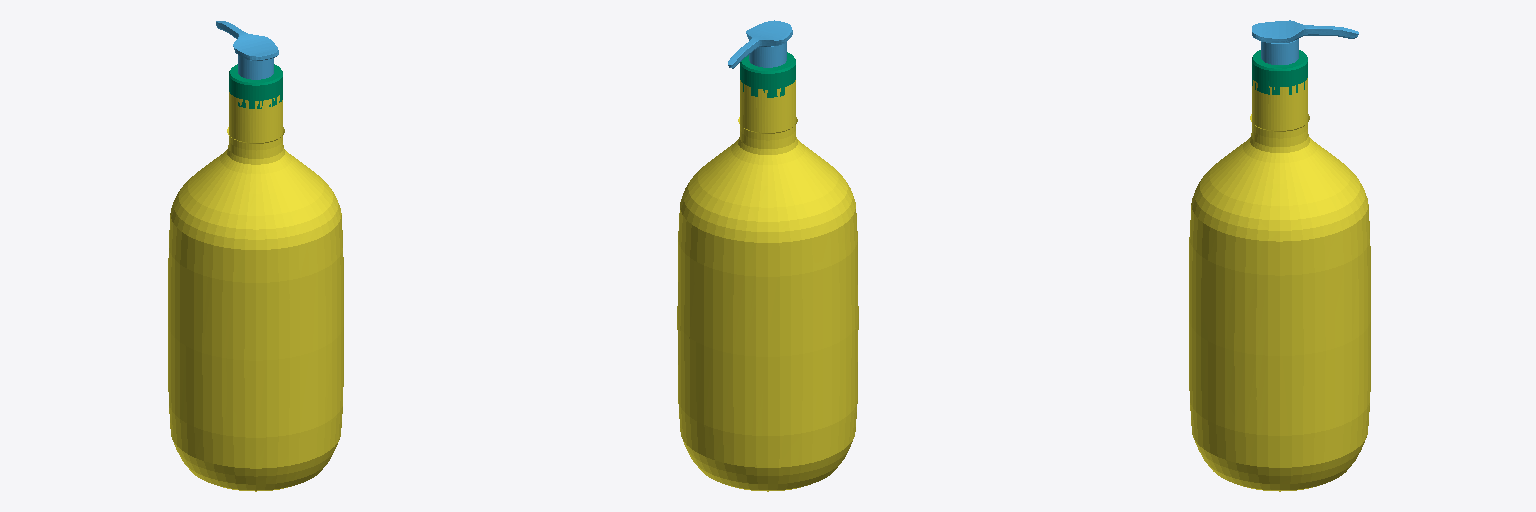
The robot description file, URDF, robot "partnet_a248bd23-afc1-495d-8576-762a182adb2e-2":
<?xml version="1.0" ?>
<robot name="partnet_a248bd23-afc1-495d-8576-762a182adb2e-2">
	<link name="base"/>
	<link name="link_0">
		<visual name="pressing_lid-1">
			<origin xyz="0.005842909581447499 0 0.005778784634363904"/>
			<geometry>
				<mesh filename="textured_objs/original-4.obj"/>
			</geometry>
		</visual>
		<visual name="pressing_lid-1">
			<origin xyz="0.005842909581447499 0 0.005778784634363904"/>
			<geometry>
				<mesh filename="textured_objs/original-8.obj"/>
			</geometry>
		</visual>
		<collision>
			<origin xyz="0.005842909581447499 0 0.005778784634363904"/>
			<geometry>
				<mesh filename="textured_objs/original-4.obj"/>
			</geometry>
		</collision>
		<collision>
			<origin xyz="0.005842909581447499 0 0.005778784634363904"/>
			<geometry>
				<mesh filename="textured_objs/original-8.obj"/>
			</geometry>
		</collision>
	</link>
	<joint name="joint_0" type="continuous">
		<origin xyz="0.0 0 0.0"/>
		<axis xyz="0 1 0"/>
		<child link="link_0"/>
		<parent link="link_0_helper"/>
	</joint>
	<link name="link_1">
		<visual name="head-3">
			<origin xyz="0.005779799016721349 -7.595691941485868e-07 0.005646530308564256"/>
			<geometry>
				<mesh filename="textured_objs/original-6.obj"/>
			</geometry>
		</visual>
		<visual name="head-3">
			<origin xyz="0.005779799016721349 -7.595691941485868e-07 0.005646530308564256"/>
			<geometry>
				<mesh filename="textured_objs/original-3.obj"/>
			</geometry>
		</visual>
		<collision>
			<origin xyz="0.005779799016721349 -7.595691941485868e-07 0.005646530308564256"/>
			<geometry>
				<mesh filename="textured_objs/original-6.obj"/>
			</geometry>
		</collision>
		<collision>
			<origin xyz="0.005779799016721349 -7.595691941485868e-07 0.005646530308564256"/>
			<geometry>
				<mesh filename="textured_objs/original-3.obj"/>
			</geometry>
		</collision>
	</link>
	<joint name="joint_1" type="continuous">
		<origin xyz="0.0 0.0 0.0"/>
		<axis xyz="0.00019159899488915299 0.9999999797475426 -6.160145748555619e-05"/>
		<child link="link_1"/>
		<parent link="link_1_helper"/>
	</joint>
	<link name="link_2">
		<visual name="base_body-4">
			<origin xyz="0 0 0"/>
			<geometry>
				<mesh filename="textured_objs/original-16.obj"/>
			</geometry>
		</visual>
		<visual name="base_body-4">
			<origin xyz="0 0 0"/>
			<geometry>
				<mesh filename="textured_objs/original-13.obj"/>
			</geometry>
		</visual>
		<visual name="base_body-4">
			<origin xyz="0 0 0"/>
			<geometry>
				<mesh filename="textured_objs/original-15.obj"/>
			</geometry>
		</visual>
		<visual name="base_body-4">
			<origin xyz="0 0 0"/>
			<geometry>
				<mesh filename="textured_objs/original-11.obj"/>
			</geometry>
		</visual>
		<visual name="base_body-4">
			<origin xyz="0 0 0"/>
			<geometry>
				<mesh filename="textured_objs/original-12.obj"/>
			</geometry>
		</visual>
		<visual name="base_body-4">
			<origin xyz="0 0 0"/>
			<geometry>
				<mesh filename="textured_objs/original-7.obj"/>
			</geometry>
		</visual>
		<visual name="base_body-4">
			<origin xyz="0 0 0"/>
			<geometry>
				<mesh filename="textured_objs/original-10.obj"/>
			</geometry>
		</visual>
		<collision>
			<origin xyz="0 0 0"/>
			<geometry>
				<mesh filename="textured_objs/original-16.obj"/>
			</geometry>
		</collision>
		<collision>
			<origin xyz="0 0 0"/>
			<geometry>
				<mesh filename="textured_objs/original-13.obj"/>
			</geometry>
		</collision>
		<collision>
			<origin xyz="0 0 0"/>
			<geometry>
				<mesh filename="textured_objs/original-15.obj"/>
			</geometry>
		</collision>
		<collision>
			<origin xyz="0 0 0"/>
			<geometry>
				<mesh filename="textured_objs/original-11.obj"/>
			</geometry>
		</collision>
		<collision>
			<origin xyz="0 0 0"/>
			<geometry>
				<mesh filename="textured_objs/original-12.obj"/>
			</geometry>
		</collision>
		<collision>
			<origin xyz="0 0 0"/>
			<geometry>
				<mesh filename="textured_objs/original-7.obj"/>
			</geometry>
		</collision>
		<collision>
			<origin xyz="0 0 0"/>
			<geometry>
				<mesh filename="textured_objs/original-10.obj"/>
			</geometry>
		</collision>
	</link>
	<joint name="joint_2" type="fixed">
		<origin rpy="1.570796326794897 0 -1.570796326794897" xyz="0 0 0"/>
		<child link="link_2"/>
		<parent link="base"/>
	</joint>
	<link name="link_0_helper"/>
	<joint name="joint_3" type="prismatic">
		<origin xyz="-6.31105647261503e-05 -7.595691941485868e-07 -0.00013225432579964773"/>
		<axis xyz="0 -1 0"/>
		<child link="link_0_helper"/>
		<parent link="link_1"/>
		<limit lower="0" upper="0.07"/>
	</joint>
	<link name="link_1_helper"/>
	<joint name="joint_4" type="prismatic">
		<origin xyz="-0.005779799016721349 7.595691941485868e-07 -0.005646530308564256"/>
		<axis xyz="0.00019159899488915299 0.9999999797475426 -6.160145748555619e-05"/>
		<child link="link_1_helper"/>
		<parent link="link_2"/>
		<limit lower="0" upper="0.16000000000000014"/>
	</joint>
</robot>

--- What the picture shows (computed from the rendered views, not written in the file) ---
The picture shows the robot from 3 angles, left to right: view 1: azimuth 30°, elevation 25°; view 2: azimuth 150°, elevation 25°; view 3: azimuth 270°, elevation 25°; orthographic projection.
Robot: partnet_a248bd23-afc1-495d-8576-762a182adb2e-2 — 6 links, 5 joints (2 continuous, 2 prismatic, 1 fixed); root link base; default pose: every joint at zero.
Visible links, largest first — view 1: link_2, link_0, link_1; view 2: link_2, link_0, link_1; view 3: link_2, link_0, link_1.
Link boxes in pixels (left/top/right/bottom): link_2: left=168, top=92, right=343, bottom=491; link_0: left=216, top=21, right=278, bottom=79; link_1: left=229, top=64, right=282, bottom=108; link_2: left=677, top=80, right=858, bottom=491; link_0: left=728, top=20, right=792, bottom=68; link_1: left=740, top=52, right=795, bottom=97; link_2: left=1189, top=78, right=1370, bottom=491; link_0: left=1252, top=20, right=1358, bottom=64; link_1: left=1252, top=50, right=1307, bottom=94.
Bounding box of the posed robot: 0.6222 × 0.6224 × 1.67 m (x, y, z).
Meshes: 11 distinct files referenced, 7 mesh visuals loaded (7 OBJ); not drawn: 4 (reference not matched to a file when rendering).
